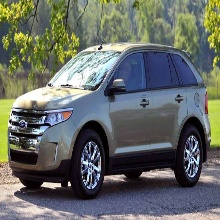no damage: (7, 42, 212, 199)
